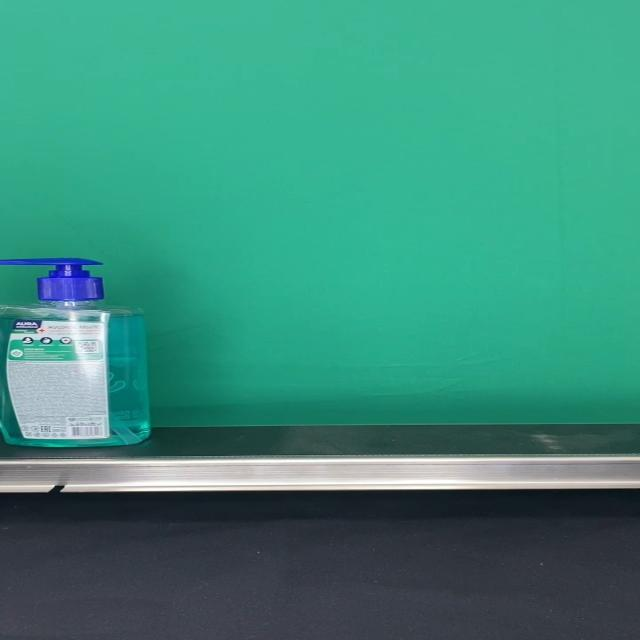Bottle: (0, 258, 152, 447)
Cap: (0, 258, 104, 301)
